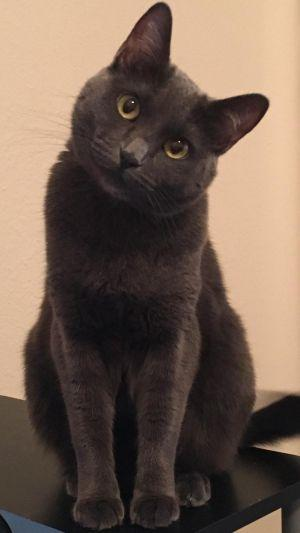rblue: (48, 1, 284, 215)
